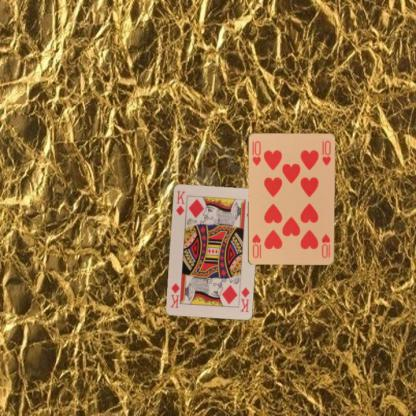10h: (250, 139, 262, 167), (320, 232, 332, 259)
Kd: (237, 285, 251, 313), (173, 188, 186, 216)
